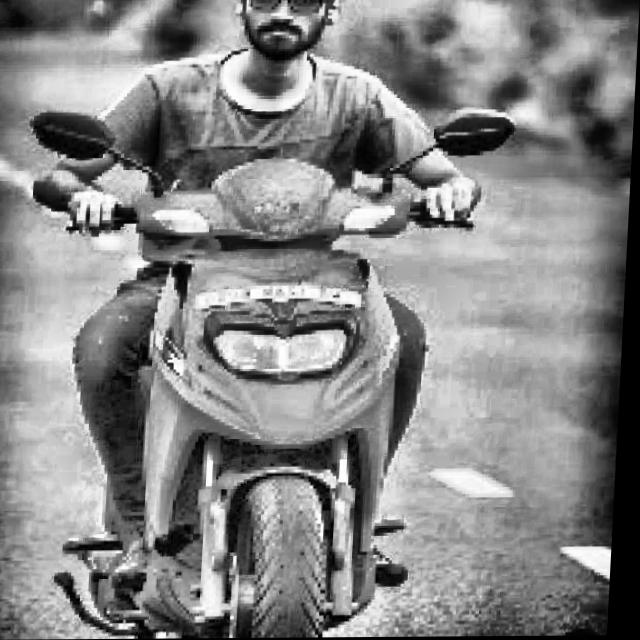motorcycle: (3, 100, 535, 639)
